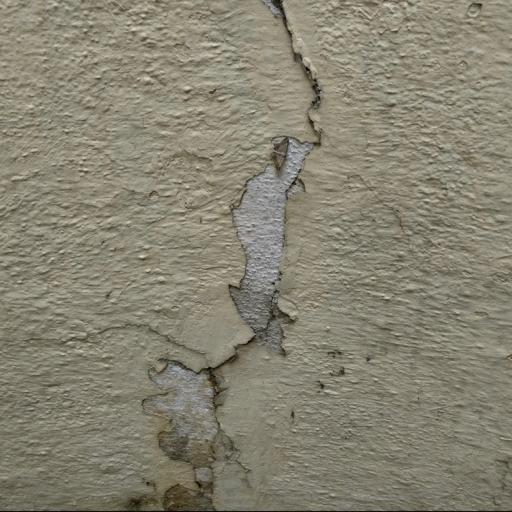peeling: (138, 0, 370, 512)
